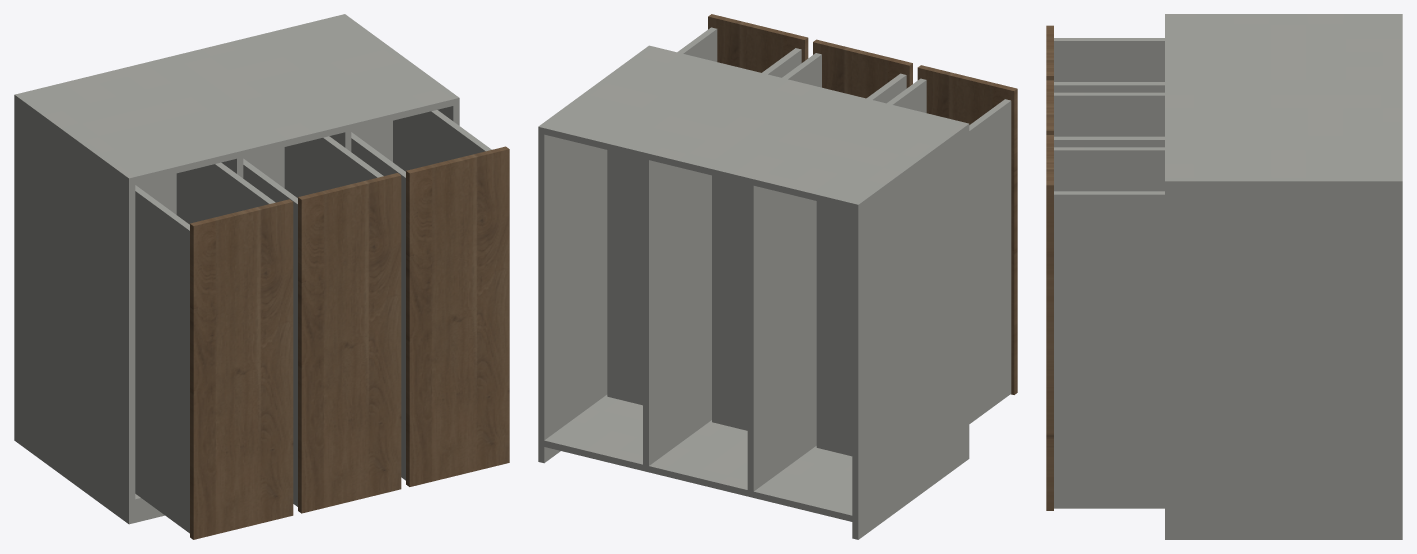
Rendered from meuble.glb.
3 renders of one model, left to right at view 1: azimuth 30°, elevation 25°; view 2: azimuth 150°, elevation 25°; view 3: azimuth 270°, elevation 25°, orthographic. The views are drawn at different scales.
Parts seen in each view (by area): view 1: world; view 2: world; view 3: world.
Part boxes in pixels (x1,y1,x2,y2): world: (14, 14, 509, 539); world: (538, 14, 1017, 539); world: (1046, 14, 1402, 539).
Bounding box in the file's own units: 1 × 1 × 0.9.
Materials: 1 (1 with a texture image).
